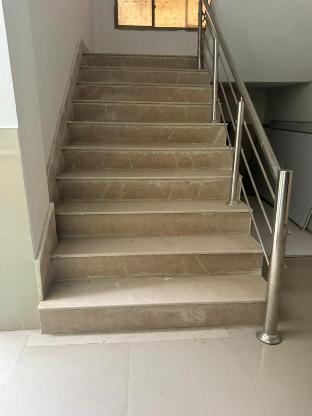stair: (46, 36, 267, 344)
